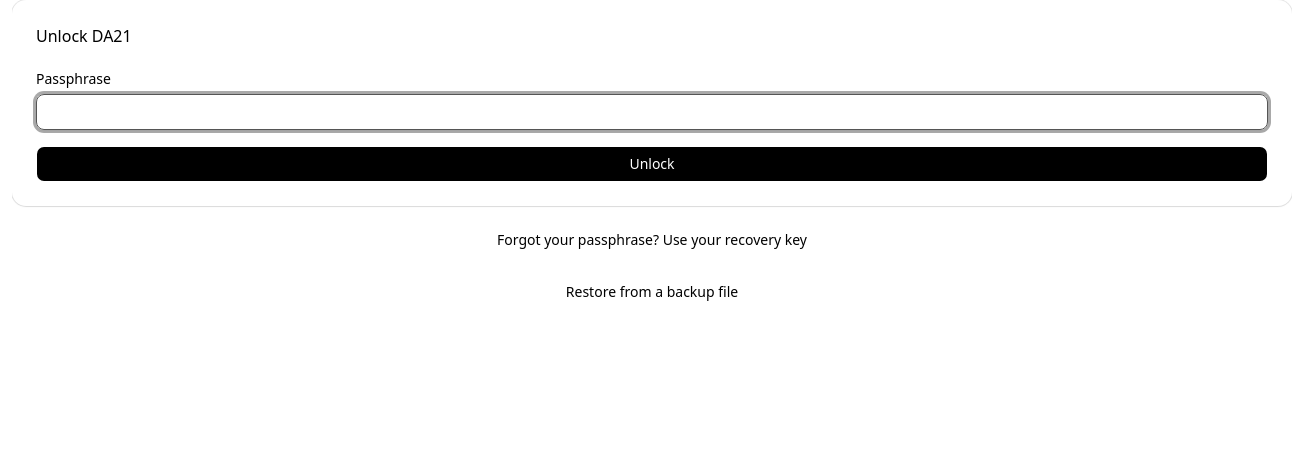
UnlockScreen recovery path › offers the recovery key and can go back to the passphrase
The image size is (1304, 476).
Click the button "Forgot your passphrase? Use your recovery key" at [652, 240], box [12,222,1292,258]
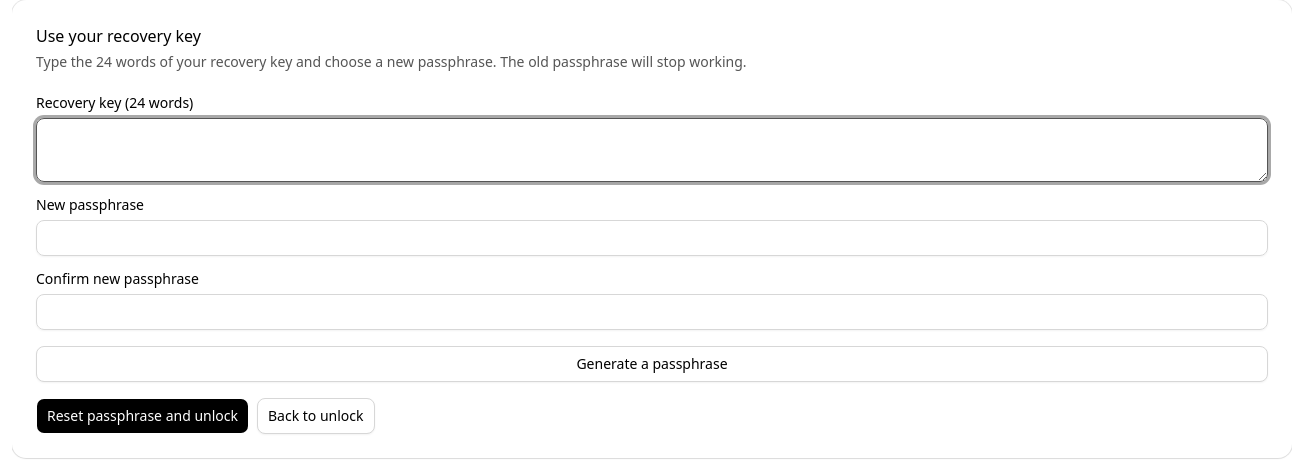
expect the text "Use your recovery key" is shown: met, box [36,25,201,47]
Click the button "Back to unlock" at [316, 416], box [257,398,374,434]
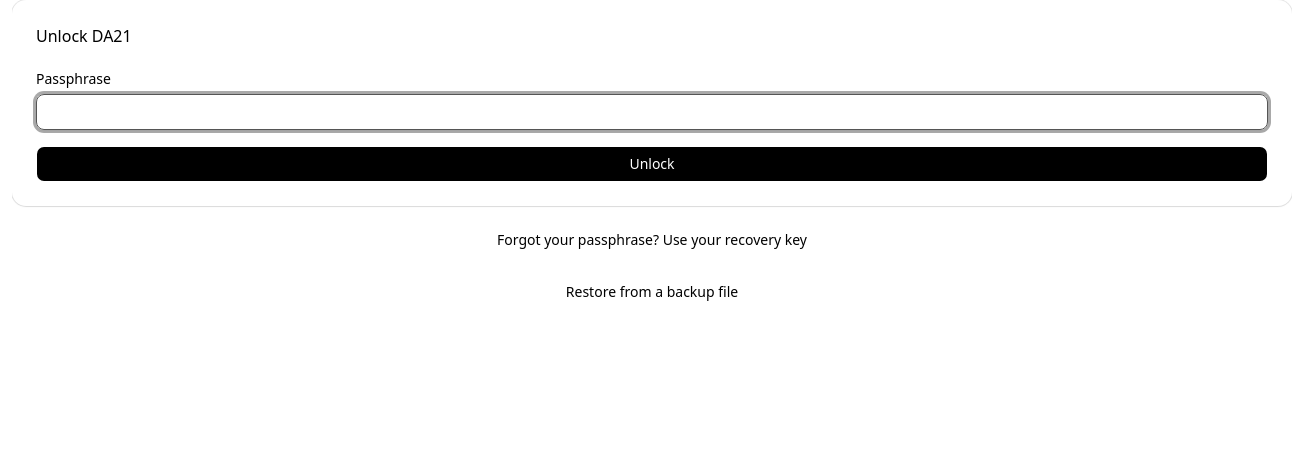
expect the text "Unlock DA21" is shown: met, box [36,25,132,47]
